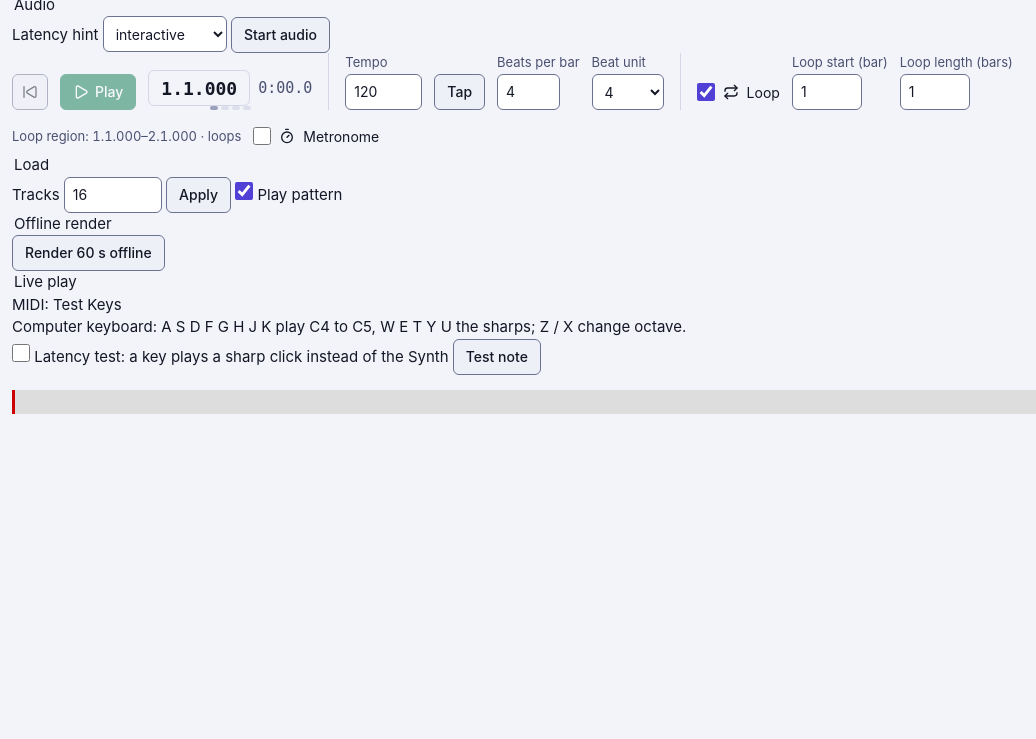
Test: reset zeroes the output's counters, and stop closes it
Click the button "Start audio" at point(280, 35), box [231,17,330,53]
(page scrolled)
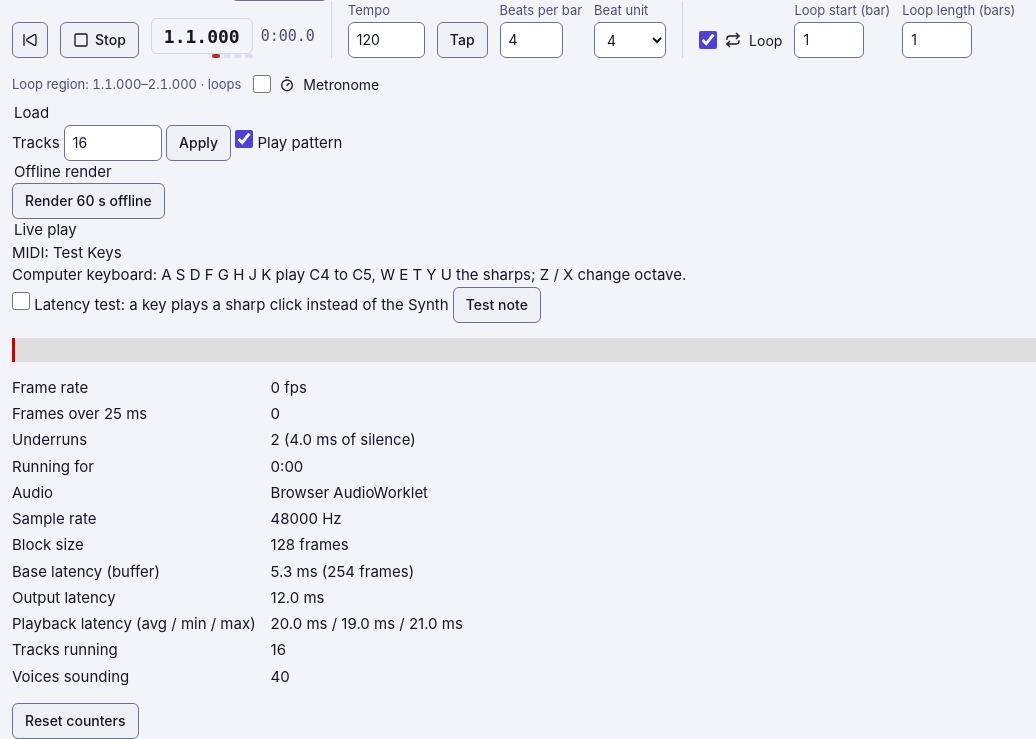
Click the button "Reset counters" at point(75, 721), box [12,703,139,738]
(page scrolled)
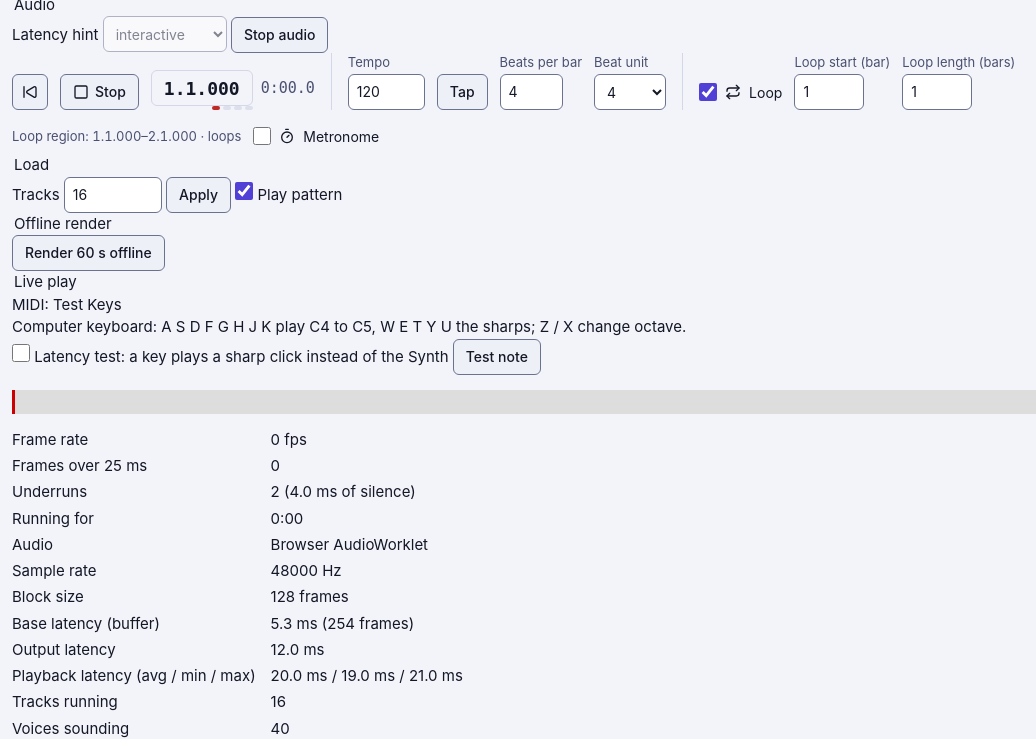
Click the button "Stop audio" at point(280, 35), box [231,17,328,53]
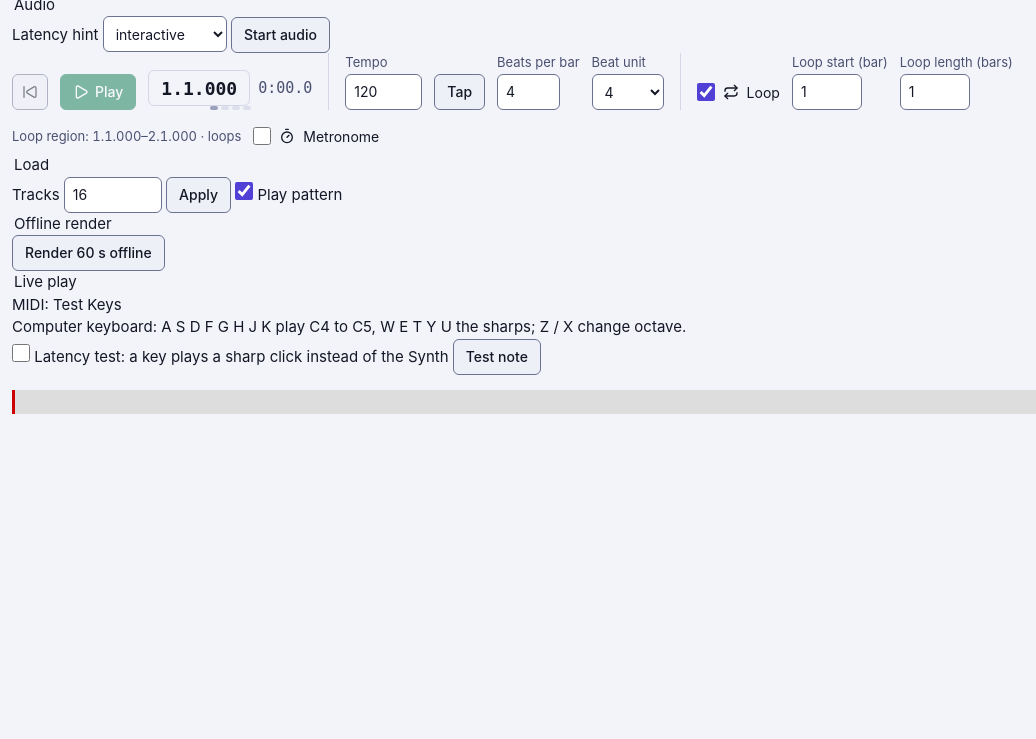
Expected: the button "Start audio" is shown, [231,17,330,53]
